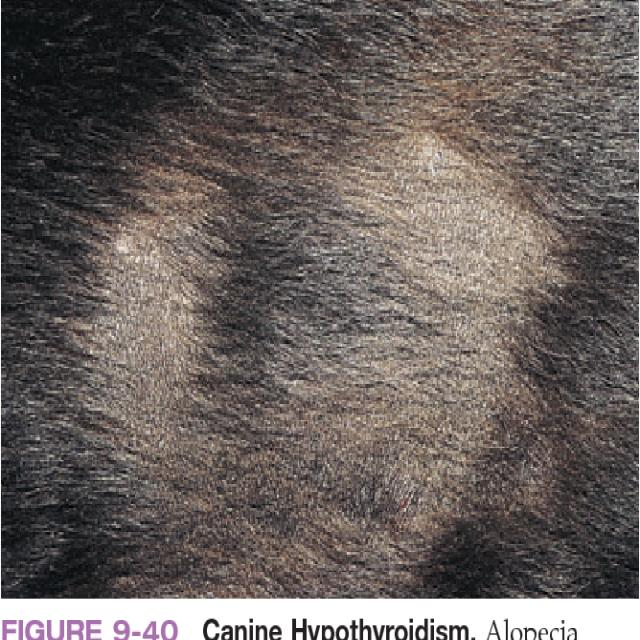cat-hairloss: (2, 1, 640, 600)
